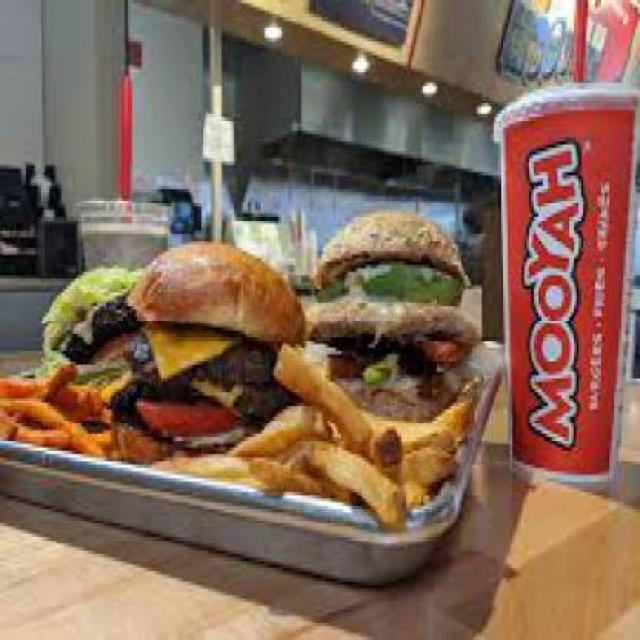french fries: (12, 365, 453, 520)
hamburger: (47, 206, 478, 434)
